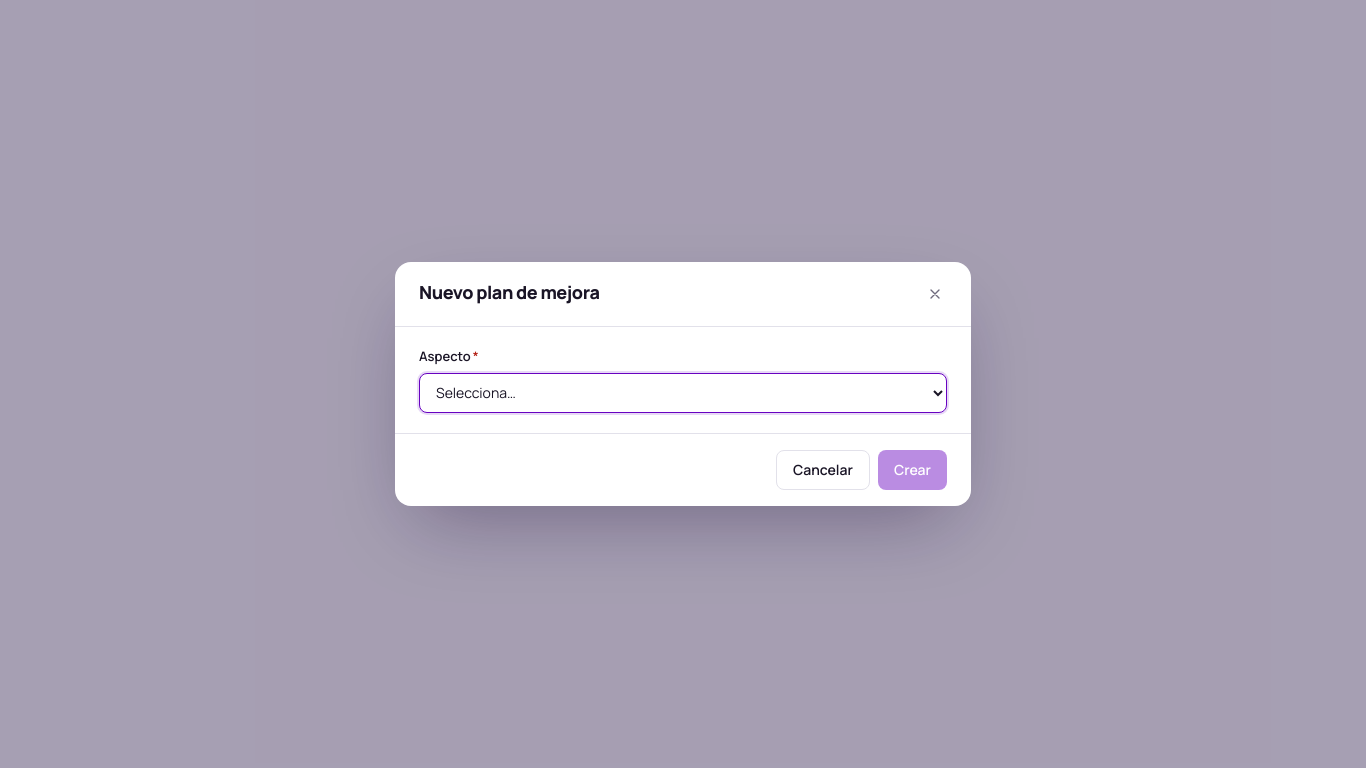
it: RF-CH-047 — los criterios son los de la carrera › sin criterios: sugiere crearlos en Criterios de Acreditación y no deja crear
Select "Criterio de Acreditación" in the dropdown labelled "Aspecto" at (683, 393), box x1=419 y1=373 x2=947 y2=413
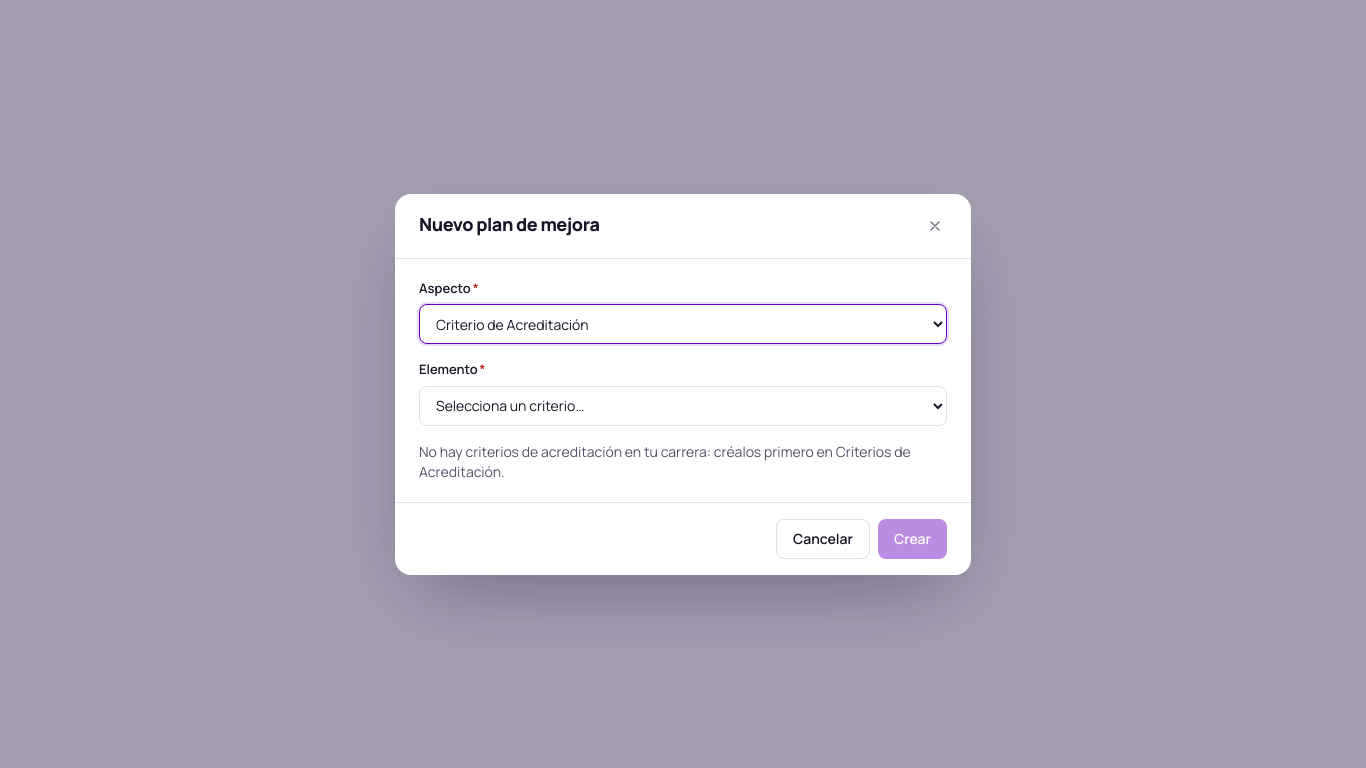
Expected: the button "Crear" is disabled, x1=878 y1=518 x2=947 y2=558
Expected: the text "No hay criterios de acreditación en tu carrera" is shown, x1=419 y1=442 x2=911 y2=480
